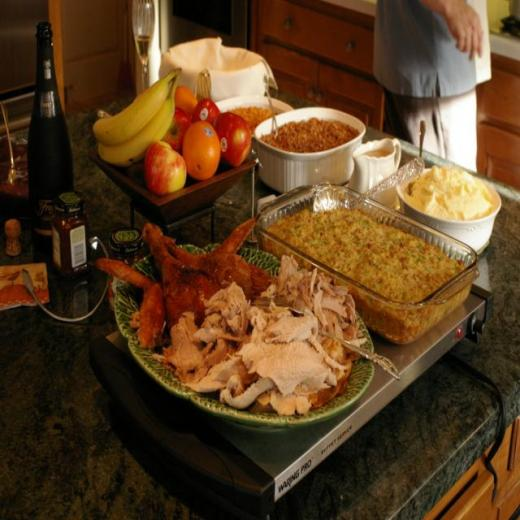Banana: (96, 70, 180, 166)
